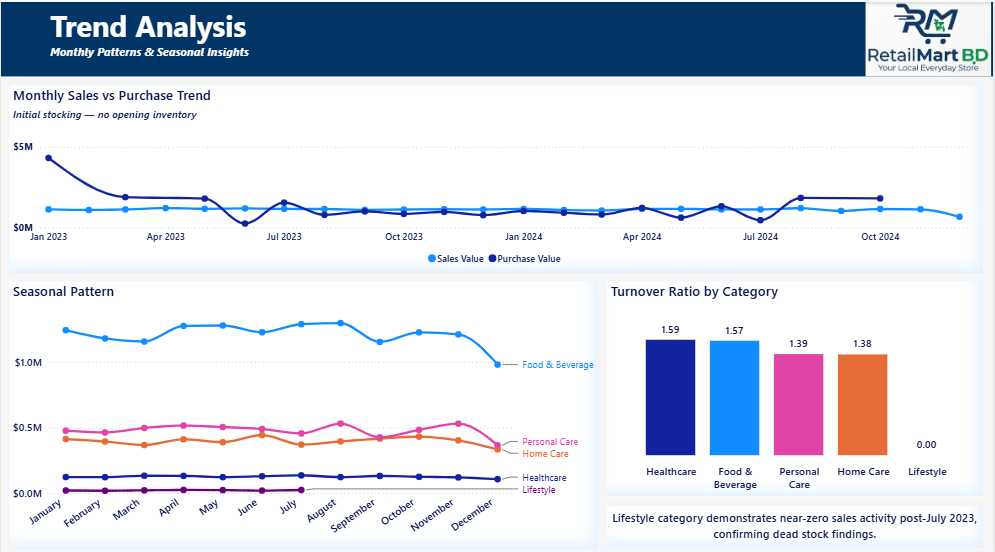

What the dashboard file says about the page in this screenshot:
{"tool":"powerbi","page":{"name":"Trend Analysis","canvas":[1280,720],"ordinal":4},"visuals":[{"type":"textbox","box":[0,0,1279.8,96.4],"z":0},{"type":"image","box":[1114,0,165.8,96.4],"z":1000},{"type":"lineChart","title":"Monthly Sales vs Purchase Trend","fields":{"Category":["dim_date.full_date.Variation.Date Hierarchy.Year","dim_date.full_date.Variation.Date Hierarchy.Month"],"Y":["_Measures.Monthly Sales Value","_Measures.Monthly Purchase Value"]},"box":[10.3,107,1256.5,241.9],"z":2000},{"type":"lineChart","title":"Seasonal Pattern","fields":{"Category":["dim_date.month_name"],"Series":["dim_product.category"],"Y":["_Measures.Monthly Sales Value"]},"box":[9.9,360,759.7,345.8],"z":3000},{"type":"clusteredColumnChart","title":"Turnover Ratio by Category","fields":{"Category":["dim_product.category"],"Y":["_Measures.Avg Turnover Ratio"]},"box":[782.4,360,484.7,277.8],"z":4000},{"type":"textbox","box":[782.4,650.6,484.7,53.9],"z":5000}]}

Visuals, with their boxes in screenshot pixels (x1, y1, x2, y2), scaled from the page's 1280x720 canvas onto the 995x552 screenshot:
textbox: [0, 0, 994, 74]
image: [866, 0, 994, 74]
"Monthly Sales vs Purchase Trend" lineChart: [8, 82, 985, 267]
"Seasonal Pattern" lineChart: [8, 276, 598, 541]
"Turnover Ratio by Category" clusteredColumnChart: [608, 276, 985, 489]
textbox: [608, 499, 985, 540]
